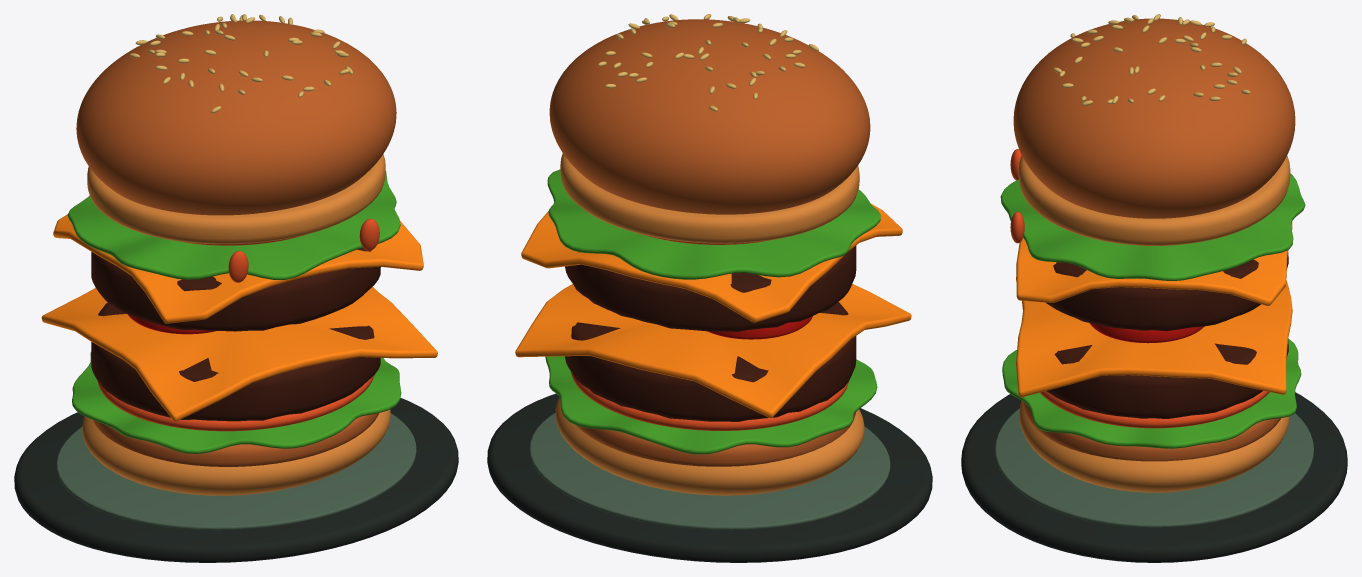
Rendered from burger-food9.glb.
3 views of the same model, side by side, from view 1: azimuth 30°, elevation 25°; view 2: azimuth 150°, elevation 25°; view 3: azimuth 270°, elevation 25° (orthographic). The views are drawn at different scales.
Visible parts, largest first — view 1: Glossy brioche crown, SABOR plate, Lower melted cheddar, Green paper liner, Upper lettuce, Lower chargrilled patty, Upper chargrilled patty, Top bun toasted rim, Bottom brioche bun, Lower lettuce, Upper melted cheddar, Toasted lower rim (+1 smaller); view 2: Glossy brioche crown, SABOR plate, Lower melted cheddar, Green paper liner, Upper lettuce, Lower chargrilled patty, Upper chargrilled patty, Top bun toasted rim, Bottom brioche bun, Lower lettuce, Upper melted cheddar, Toasted lower rim (+2 smaller); view 3: Glossy brioche crown, SABOR plate, Lower melted cheddar, Green paper liner, Upper lettuce, Top bun toasted rim, Lower chargrilled patty, Bottom brioche bun, Upper chargrilled patty, Lower lettuce, Upper melted cheddar, Toasted lower rim (+2 smaller).
Boxes of the visible parts, left/top/right/bottom form: Glossy brioche crown: left=76, top=20, right=396, bottom=215; SABOR plate: left=14, top=398, right=458, bottom=562; Lower melted cheddar: left=41, top=286, right=437, bottom=421; Green paper liner: left=56, top=413, right=416, bottom=530; Upper lettuce: left=67, top=171, right=400, bottom=279; Lower chargrilled patty: left=91, top=302, right=380, bottom=421; Upper chargrilled patty: left=91, top=248, right=380, bottom=331; Top bun toasted rim: left=87, top=154, right=385, bottom=244; Bottom brioche bun: left=82, top=409, right=390, bottom=495; Lower lettuce: left=72, top=352, right=401, bottom=453; Upper melted cheddar: left=53, top=214, right=423, bottom=323; Toasted lower rim: left=93, top=413, right=378, bottom=466; Glossy brioche crown: left=549, top=19, right=870, bottom=214; SABOR plate: left=487, top=393, right=932, bottom=562; Lower melted cheddar: left=515, top=284, right=911, bottom=418; Green paper liner: left=529, top=413, right=890, bottom=530; Upper lettuce: left=547, top=169, right=880, bottom=279; Lower chargrilled patty: left=565, top=302, right=856, bottom=421; Upper chargrilled patty: left=565, top=245, right=856, bottom=331; Top bun toasted rim: left=560, top=153, right=859, bottom=243; Bottom brioche bun: left=555, top=397, right=864, bottom=495; Lower lettuce: left=545, top=356, right=877, bottom=454; Upper melted cheddar: left=521, top=204, right=902, bottom=322; Toasted lower rim: left=575, top=412, right=855, bottom=466; Glossy brioche crown: left=1013, top=18, right=1295, bottom=218; SABOR plate: left=961, top=392, right=1347, bottom=562; Lower melted cheddar: left=1016, top=277, right=1292, bottom=397; Green paper liner: left=995, top=408, right=1313, bottom=527; Upper lettuce: left=1000, top=173, right=1305, bottom=280; Top bun toasted rim: left=1018, top=155, right=1290, bottom=245; Lower chargrilled patty: left=1046, top=340, right=1288, bottom=418; Bottom brioche bun: left=1019, top=401, right=1289, bottom=492; Upper chargrilled patty: left=1046, top=252, right=1288, bottom=331; Lower lettuce: left=1002, top=338, right=1301, bottom=448; Upper melted cheddar: left=1016, top=221, right=1292, bottom=305; Toasted lower rim: left=1022, top=401, right=1280, bottom=461.
Size of the model in its own units: 0.176 by 0.1861 by 0.1514.
